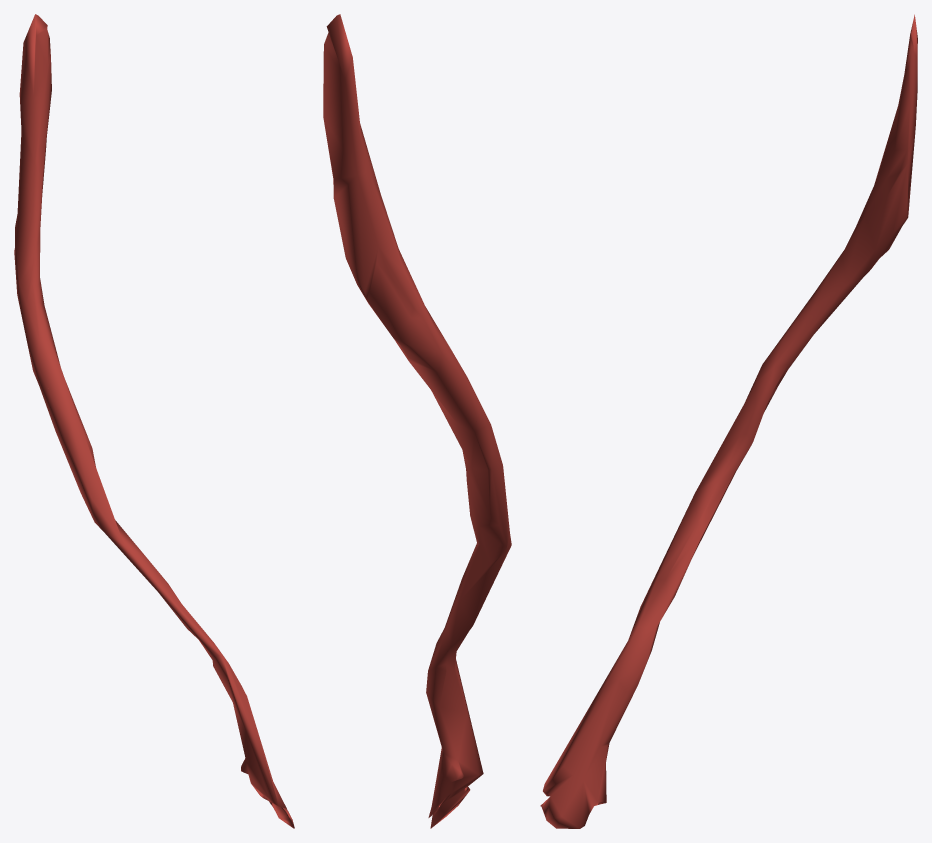
The model's file is musculos-fibularis-tertius-muscle-l.glb.
The picture shows the model from 3 angles, left to right: view 1: azimuth 30°, elevation 25°; view 2: azimuth 150°, elevation 25°; view 3: azimuth 270°, elevation 25°; orthographic projection. The views are drawn at different scales.
Parts seen in each view (by area): view 1: Fibularis tertius muscle.l; view 2: Fibularis tertius muscle.l; view 3: Fibularis tertius muscle.l.
Boxes of the visible parts, x1=… form: Fibularis tertius muscle.l: x1=14, y1=14, x2=294, y2=828; Fibularis tertius muscle.l: x1=323, y1=14, x2=511, y2=828; Fibularis tertius muscle.l: x1=540, y1=14, x2=917, y2=828.
Size of the model in its own units: 0.0254 by 0.1225 by 0.0547.
